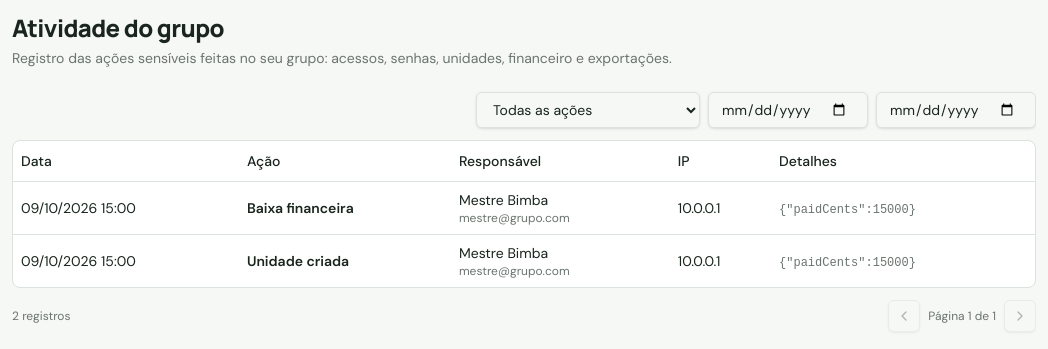
Scenario: AtividadePage (Atividade do grupo) › lista a trilha do grupo com a ação em português e envia o filtro de ação ao servidor
Expected: the heading "Atividade do grupo" is shown, [12, 11, 224, 44]
Expected: the text "Baixa financeira" is shown, [247, 198, 354, 216]
Select "Baixa financeira" in the dropdown named "Filtrar por ação" at (588, 110), box [476, 92, 700, 128]
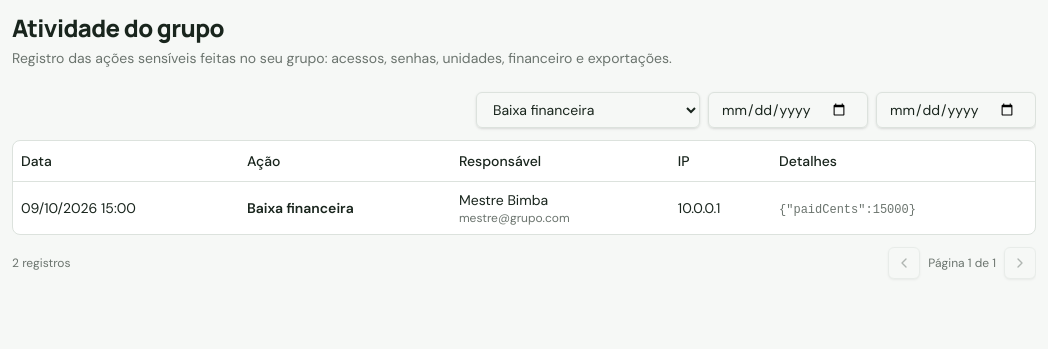
Expected: the text "Unidade criada" is gone
